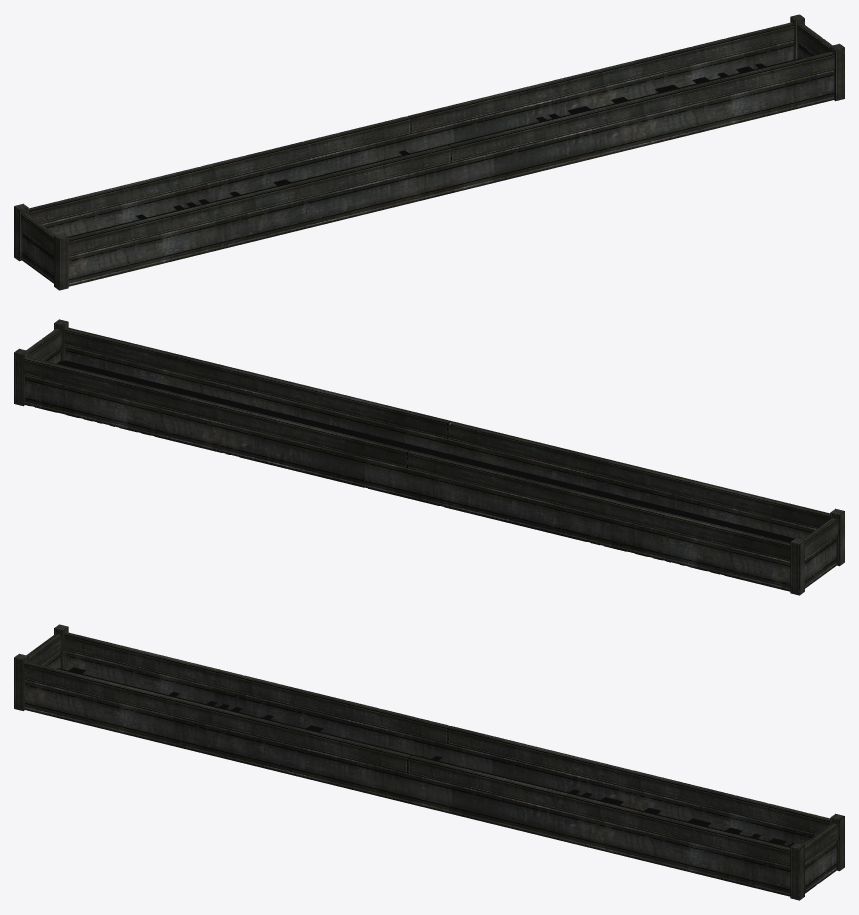
Rendered from tesla_dressing_generic_frame_02.dae.
3 renders of one model, top to bottom at view 1: azimuth 30°, elevation 25°; view 2: azimuth 150°, elevation 25°; view 3: azimuth 330°, elevation 25°, orthographic.
Visible parts, largest first — view 1: polySurface5; view 2: polySurface5; view 3: polySurface5.
Boxes of the visible parts, x1,y1,x2,y2 form: polySurface5: [14, 14, 844, 290]; polySurface5: [14, 319, 844, 595]; polySurface5: [14, 624, 844, 900].
Bounding box in the file's own units: 400 × 25 × 40.
